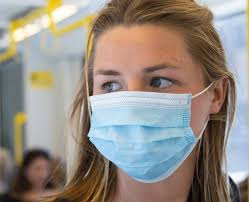FaceMask: (87, 91, 197, 182)
